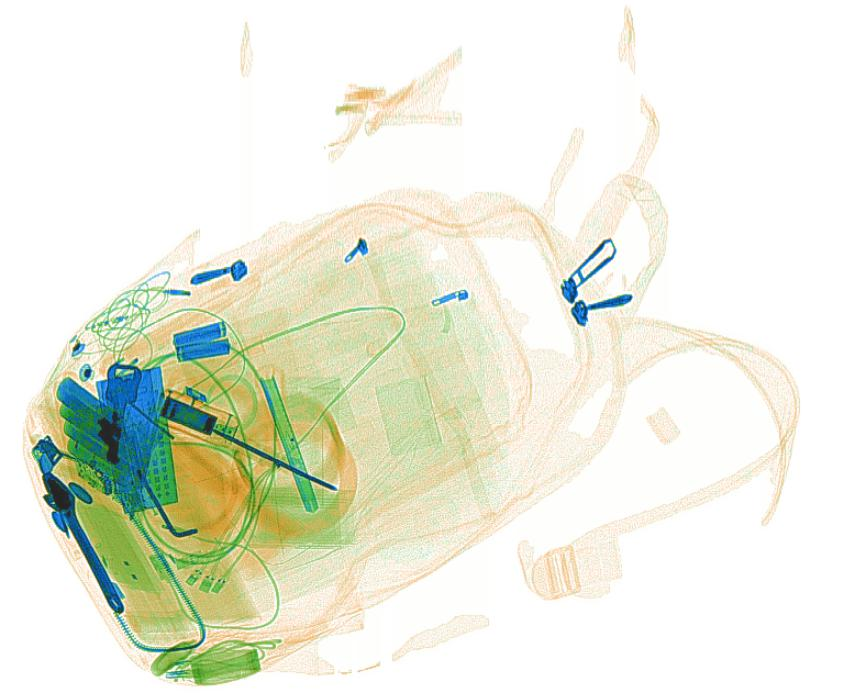battery: (53, 370, 134, 511), (171, 321, 232, 363)
knife: (253, 361, 320, 513)
scissors: (128, 356, 199, 522)
